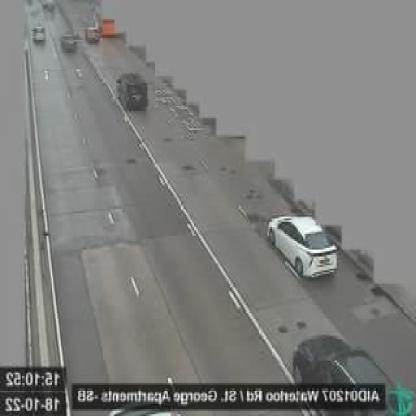Car: (287, 330, 402, 411), (268, 214, 339, 281), (115, 70, 148, 113), (60, 30, 78, 54), (83, 24, 100, 45), (31, 22, 47, 44)
